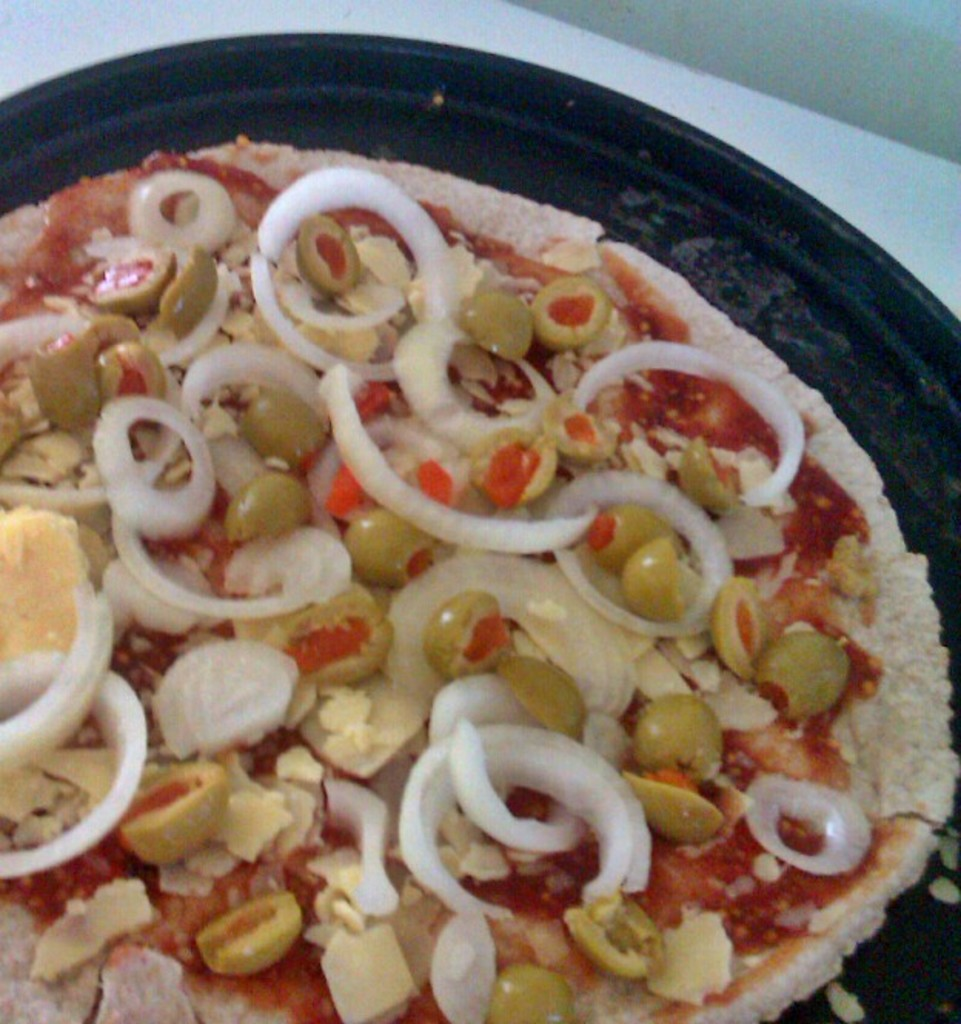Pizza: (0, 140, 959, 1022)
